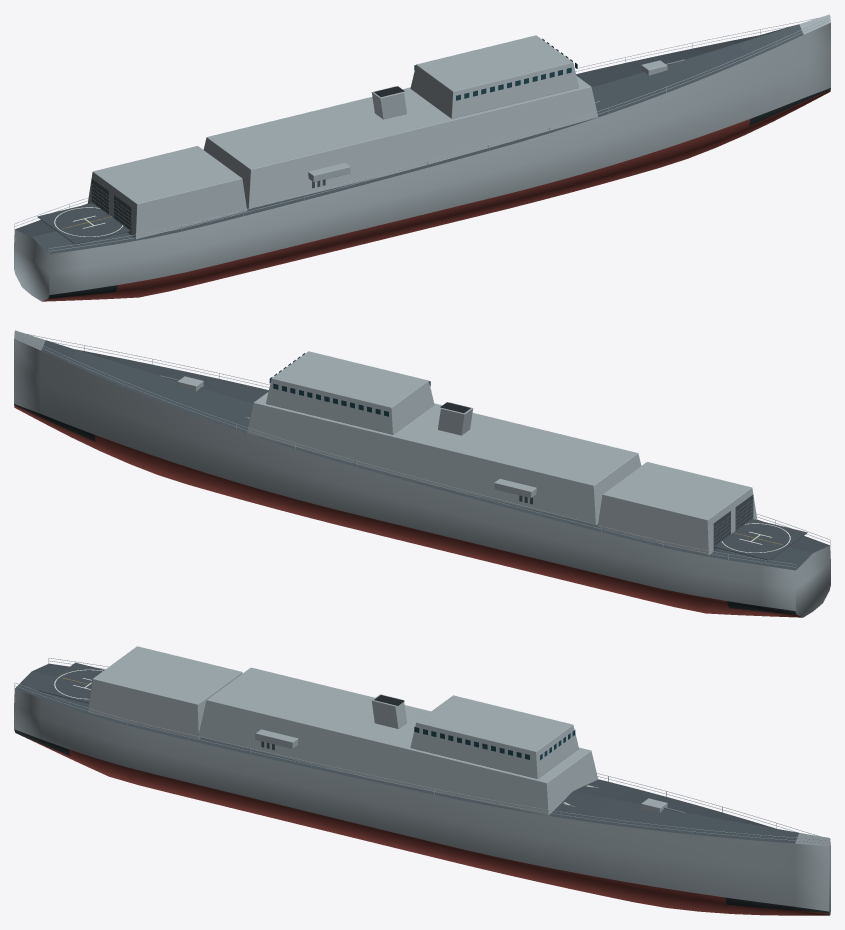
File: rn_ffg_type26.glb
3 views of the same model, one above another, from view 1: azimuth 30°, elevation 25°; view 2: azimuth 150°, elevation 25°; view 3: azimuth 330°, elevation 25° (orthographic).
Visible parts, largest first — view 1: rn_ffg_type26; view 2: rn_ffg_type26; view 3: rn_ffg_type26.
Boxes of the visible parts, x1,y1,x2,y2 form: rn_ffg_type26: (14,14,830,301); rn_ffg_type26: (14,330,830,617); rn_ffg_type26: (14,646,830,915).
Bounding box in the file's own units: 10 × 1.63 × 1.26.
